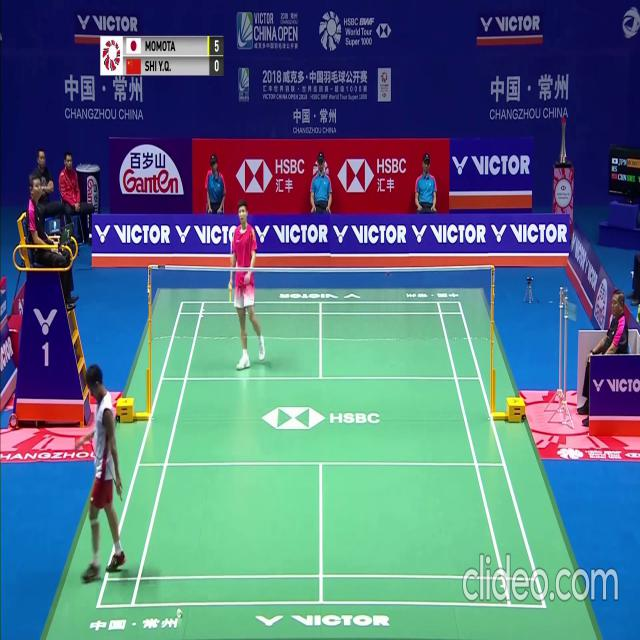Shuttlecock: (178, 608, 183, 616)
